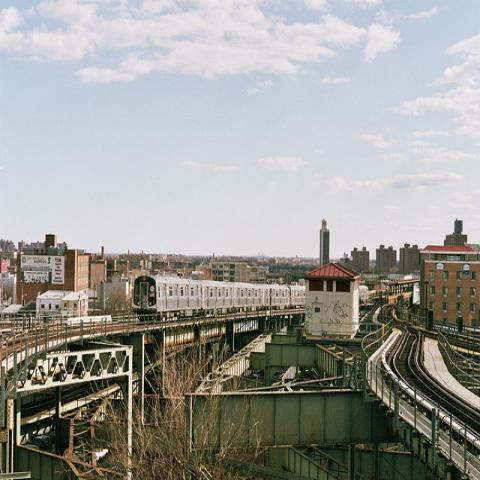car: (31, 434, 53, 452), (95, 447, 108, 463)
